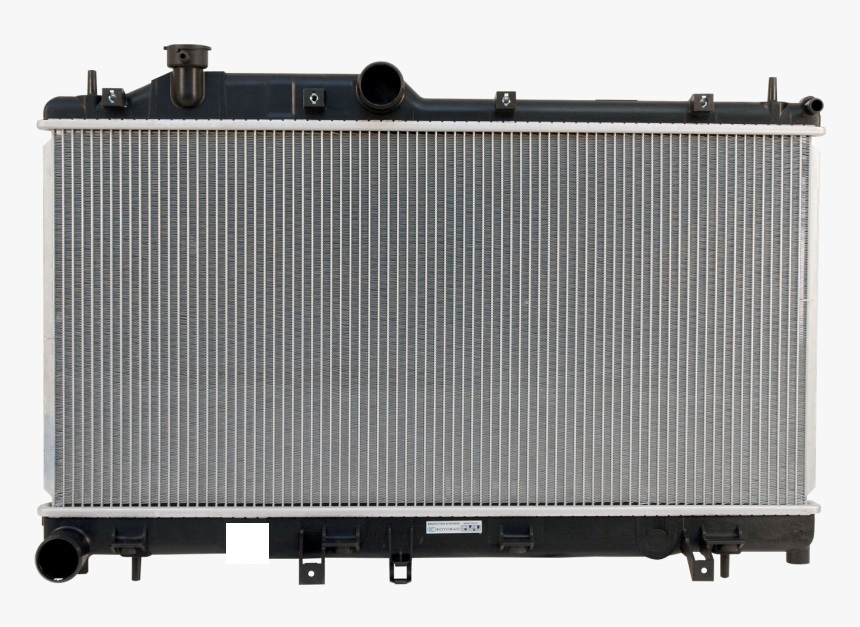c1: (85, 64, 130, 115)
c11: (299, 525, 361, 585)
c12: (388, 526, 413, 585)
c13: (498, 525, 536, 556)
c14: (680, 523, 746, 581)
c2: (162, 42, 211, 109)
c3: (300, 84, 327, 111)
c4: (357, 58, 407, 111)
c5: (495, 89, 519, 112)
c6: (692, 93, 714, 112)
c7: (767, 74, 825, 122)
c8: (33, 527, 89, 584)
c9: (111, 525, 149, 581)
